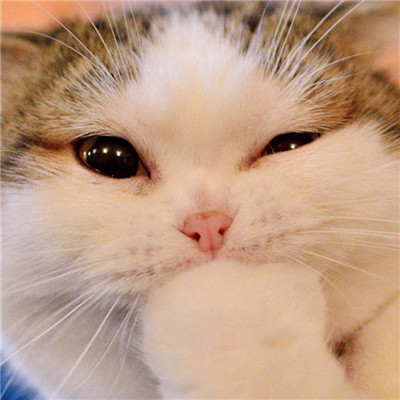cat: (6, 8, 394, 324)
